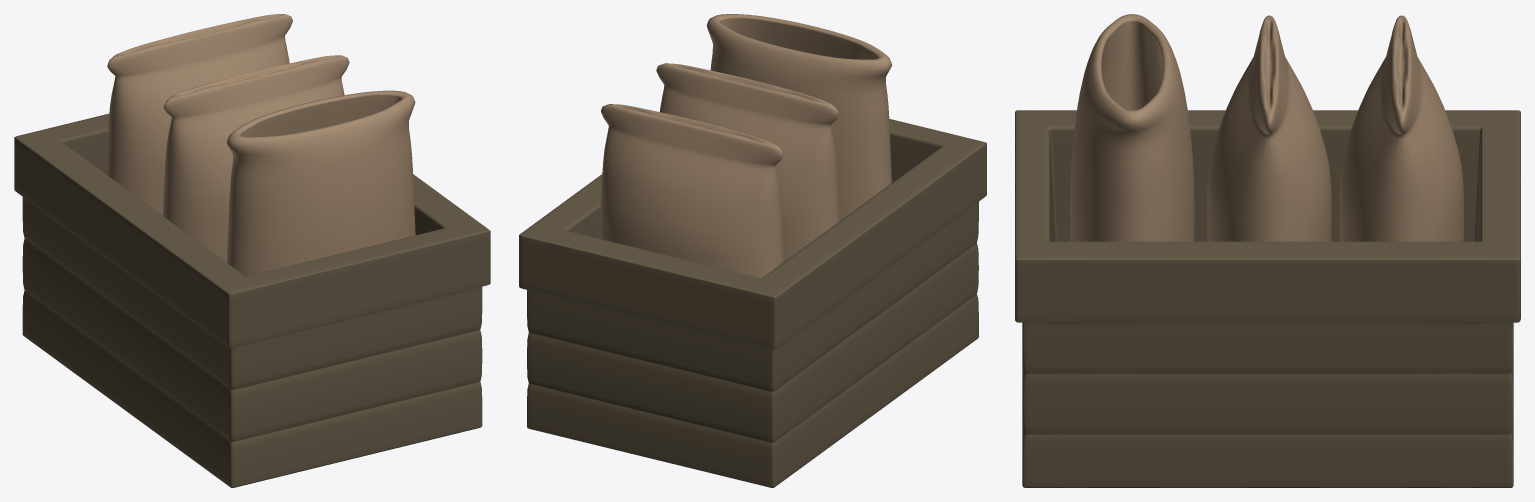
Rendered from seedBags.glb.
The picture shows the model from 3 angles, left to right: view 1: azimuth 30°, elevation 25°; view 2: azimuth 150°, elevation 25°; view 3: azimuth 270°, elevation 25°; orthographic projection. The views are drawn at different scales.
Visible parts, largest first — view 1: seed_bags; view 2: seed_bags; view 3: seed_bags.
Part boxes in pixels (x1,y1,x2,y2): seed_bags: [14, 14, 490, 487]; seed_bags: [519, 14, 986, 487]; seed_bags: [1015, 14, 1520, 487].
Size of the model in its own units: 1.77 by 1.98 by 2.52.
